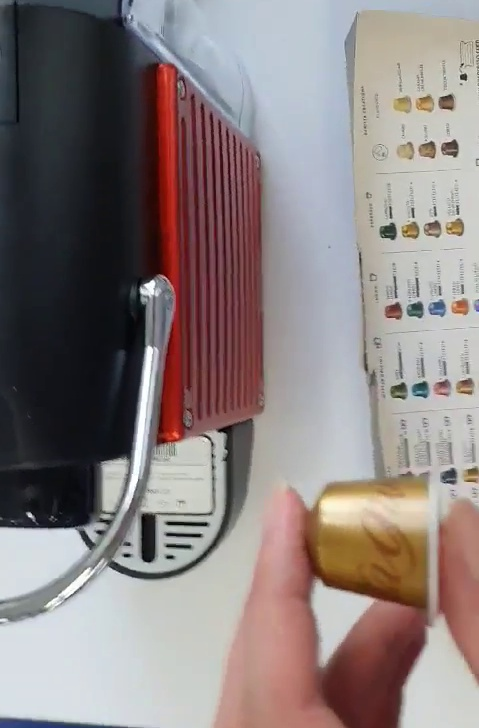capsule_9: (299, 469, 447, 625)
